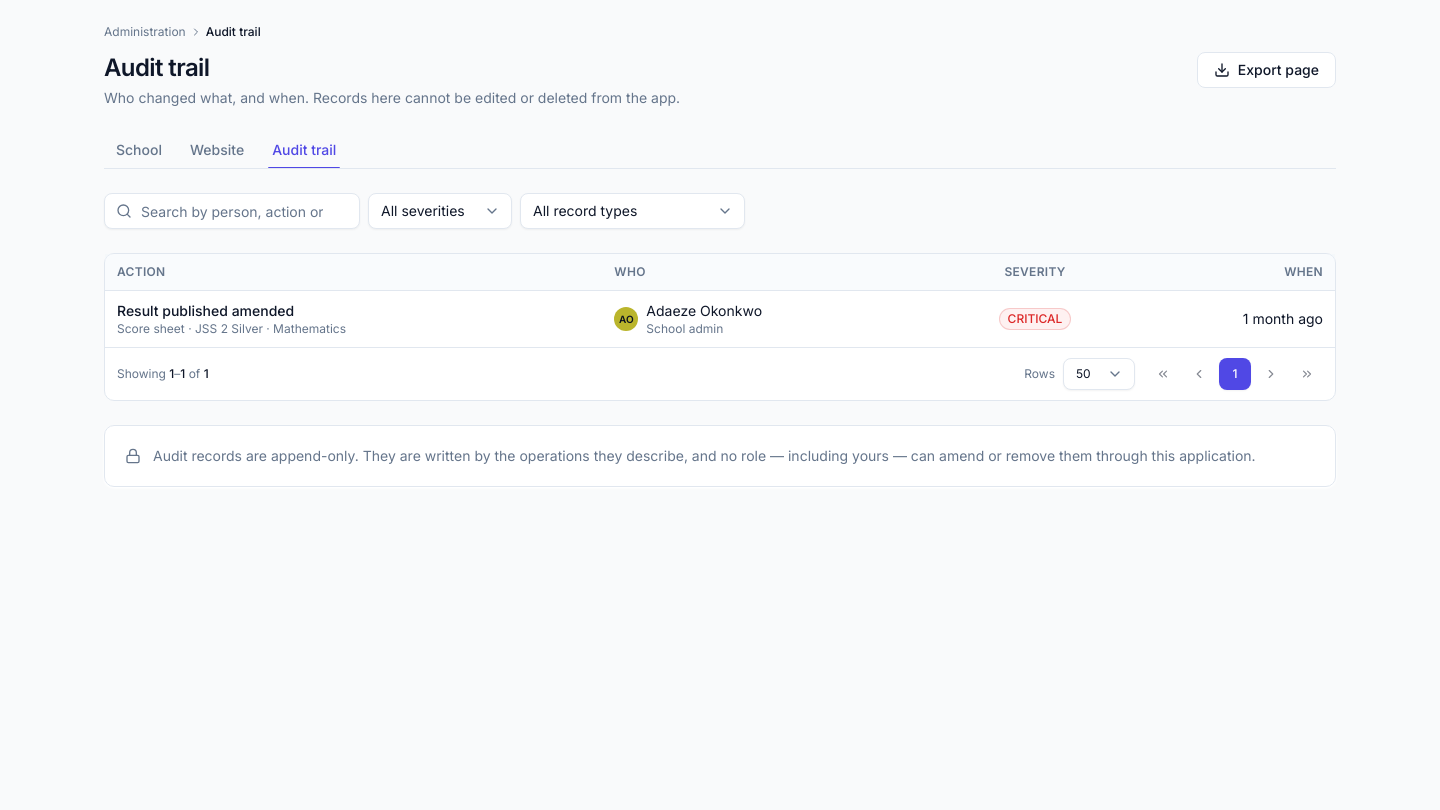
it: AuditPage › says so when an action recorded no details at all
Click the text "Result published amended" at (206, 310), box x1=117 y1=302 x2=294 y2=319
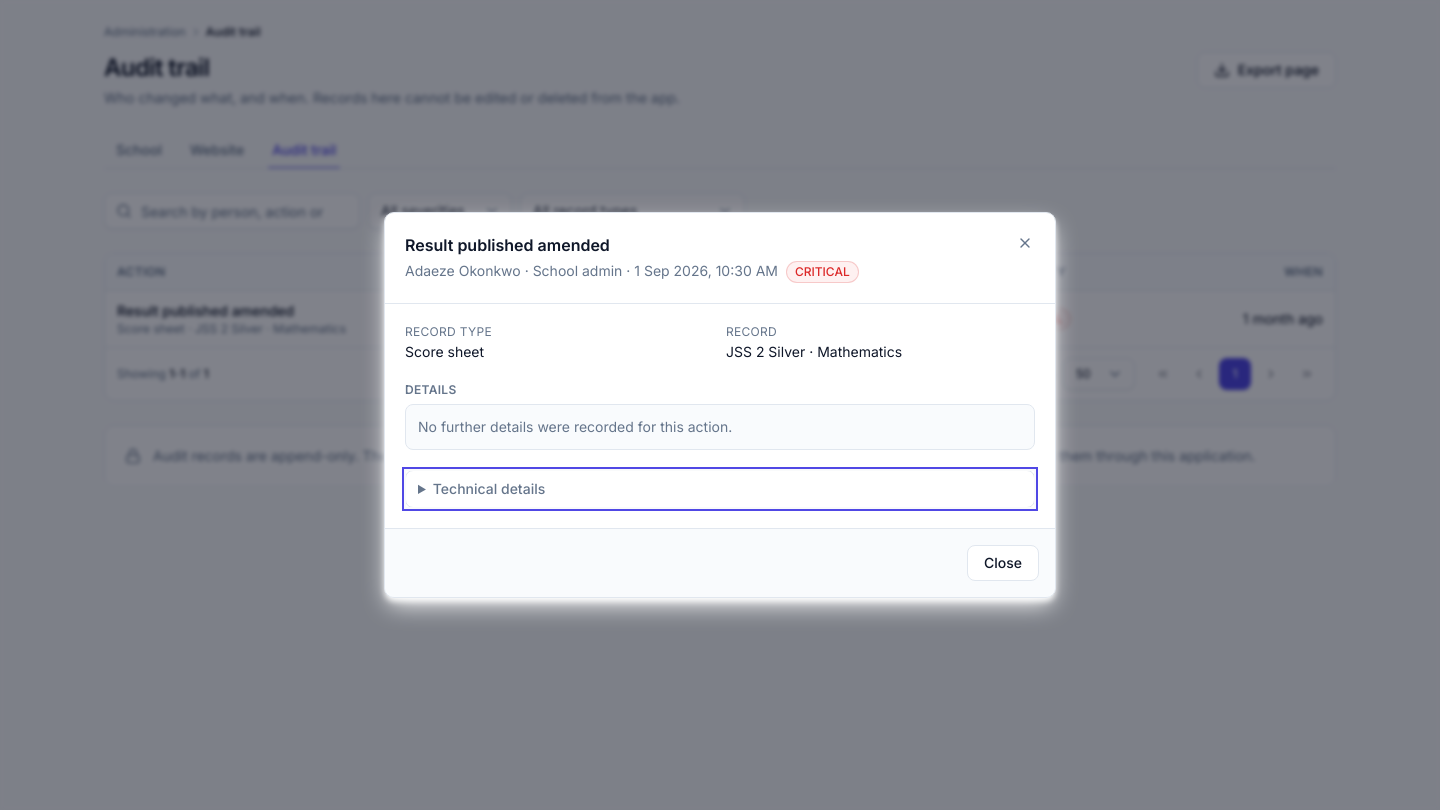
Now the text "No further details were recorded for this action." is shown, box x1=405 y1=404 x2=1035 y2=450
